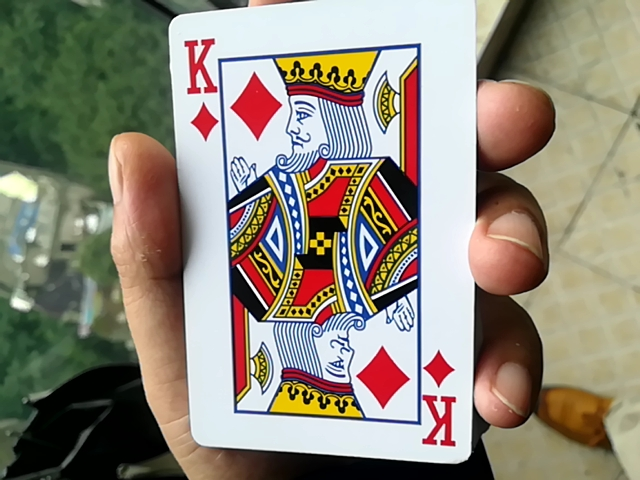fk k: (163, 0, 475, 458)
